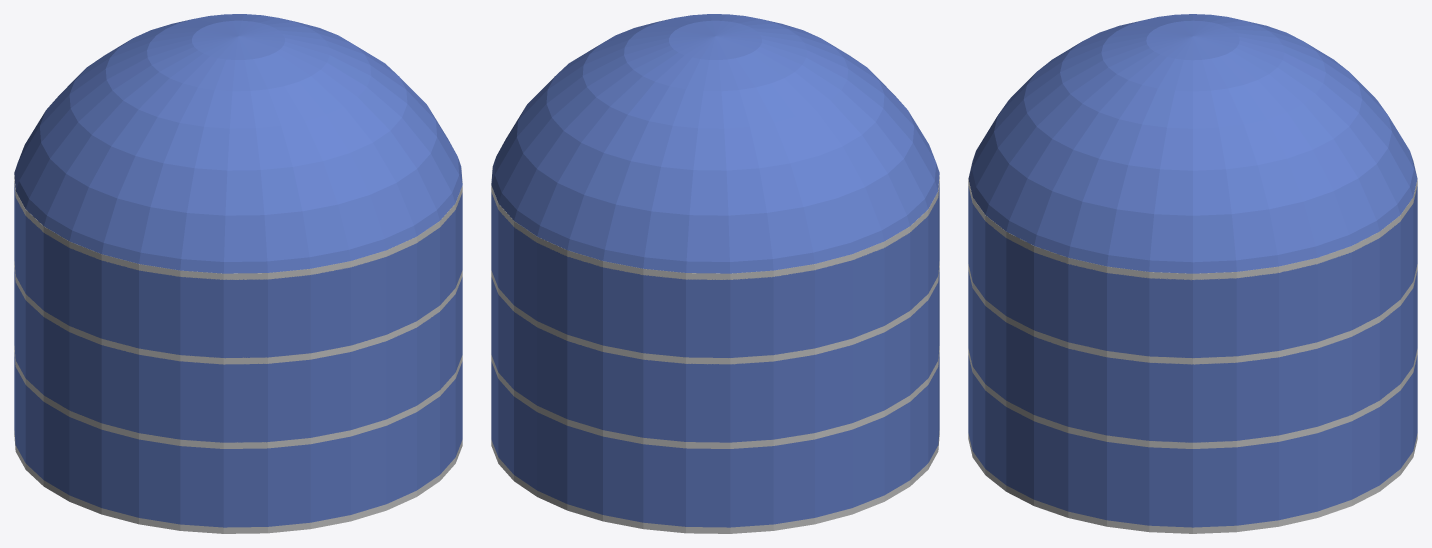
Rendered from ship.fbx.
The picture shows the model from 3 angles, left to right: view 1: azimuth 30°, elevation 25°; view 2: azimuth 150°, elevation 25°; view 3: azimuth 270°, elevation 25°; orthographic projection.
Parts seen in each view (by area): view 1: Sphere, Cylinder.002, Cylinder.000, Cylinder.006, Sphere.001, Cylinder.005, Cylinder.009, Cylinder.008, Cylinder.001, Cylinder.004, Cylinder.007, Cylinder.003 (+4 smaller); view 2: Sphere, Cylinder.002, Cylinder.000, Cylinder.006, Sphere.001, Cylinder.005, Cylinder.009, Cylinder.008, Cylinder.007, Cylinder.004, Cylinder.003, Cylinder.001 (+4 smaller); view 3: Sphere, Cylinder.002, Cylinder.000, Cylinder.006, Sphere.001, Cylinder.005, Cylinder.009, Cylinder.008, Cylinder.004, Cylinder.001, Cylinder.007, Cylinder.003 (+4 smaller).
Boxes of the visible parts, <box> form: Sphere: <box>14,14,462,273</box>; Cylinder.002: <box>14,353,462,527</box>; Cylinder.000: <box>14,267,462,442</box>; Cylinder.006: <box>14,183,462,358</box>; Sphere.001: <box>14,14,461,273</box>; Cylinder.005: <box>14,192,462,357</box>; Cylinder.009: <box>14,361,462,527</box>; Cylinder.008: <box>14,273,462,442</box>; Cylinder.001: <box>14,168,462,279</box>; Cylinder.004: <box>14,431,462,533</box>; Cylinder.007: <box>14,346,462,448</box>; Cylinder.003: <box>14,261,462,364</box>; Sphere: <box>491,14,939,273</box>; Cylinder.002: <box>491,352,939,527</box>; Cylinder.000: <box>491,268,939,442</box>; Cylinder.006: <box>491,183,939,357</box>; Sphere.001: <box>492,14,938,273</box>; Cylinder.005: <box>491,189,939,357</box>; Cylinder.009: <box>491,357,939,527</box>; Cylinder.008: <box>491,273,939,442</box>; Cylinder.007: <box>491,346,939,448</box>; Cylinder.004: <box>491,431,939,533</box>; Cylinder.003: <box>491,261,939,364</box>; Cylinder.001: <box>491,168,939,279</box>; Sphere: <box>968,14,1417,273</box>; Cylinder.002: <box>968,355,1417,527</box>; Cylinder.000: <box>968,270,1417,442</box>; Cylinder.006: <box>968,186,1417,358</box>; Sphere.001: <box>969,14,1416,273</box>; Cylinder.005: <box>968,190,1417,357</box>; Cylinder.009: <box>968,358,1417,526</box>; Cylinder.008: <box>968,274,1417,441</box>; Cylinder.004: <box>968,433,1417,533</box>; Cylinder.001: <box>968,161,1417,280</box>; Cylinder.007: <box>968,349,1417,448</box>; Cylinder.003: <box>968,264,1417,364</box>.
Size of the model in its own units: 4047 by 4001 by 4047.
